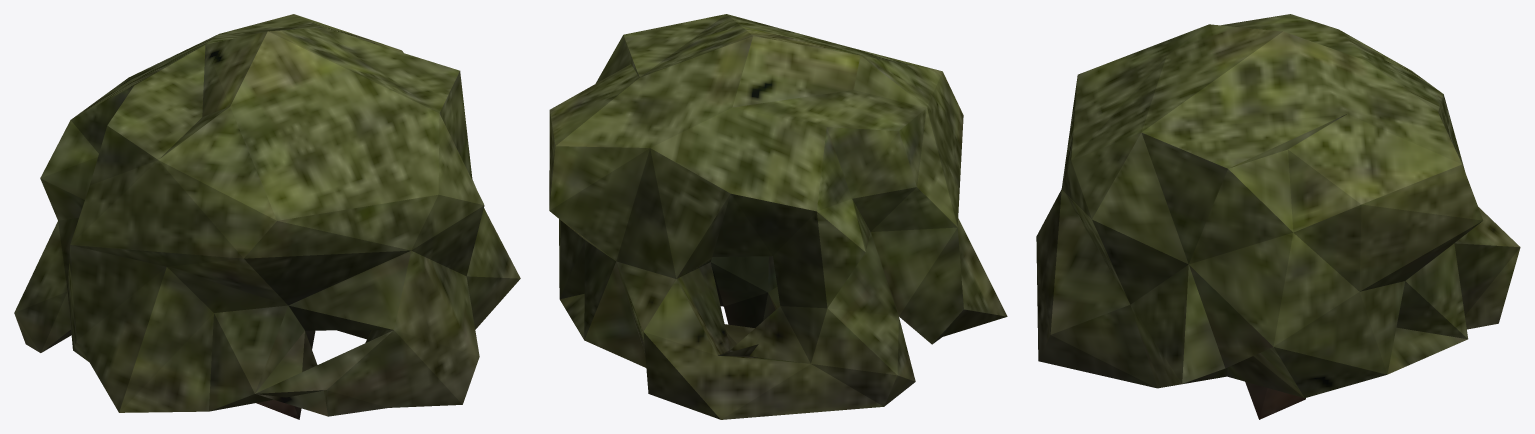
File: ga3_oak_250.glb
3 renders of one model, left to right at view 1: azimuth 30°, elevation 25°; view 2: azimuth 150°, elevation 25°; view 3: azimuth 270°, elevation 25°, orthographic. The views are drawn at different scales.
Visible parts, largest first — view 1: ga3_oak_250; view 2: ga3_oak_250; view 3: ga3_oak_250.
Part boxes in pixels (left/top/right/bottom): ga3_oak_250: left=14, top=14, right=520, bottom=419; ga3_oak_250: left=549, top=14, right=1007, bottom=419; ga3_oak_250: left=1036, top=14, right=1520, bottom=419.
Size of the model in its own units: 0.941 by 0.8286 by 0.959.
1 material, 1 textured.
